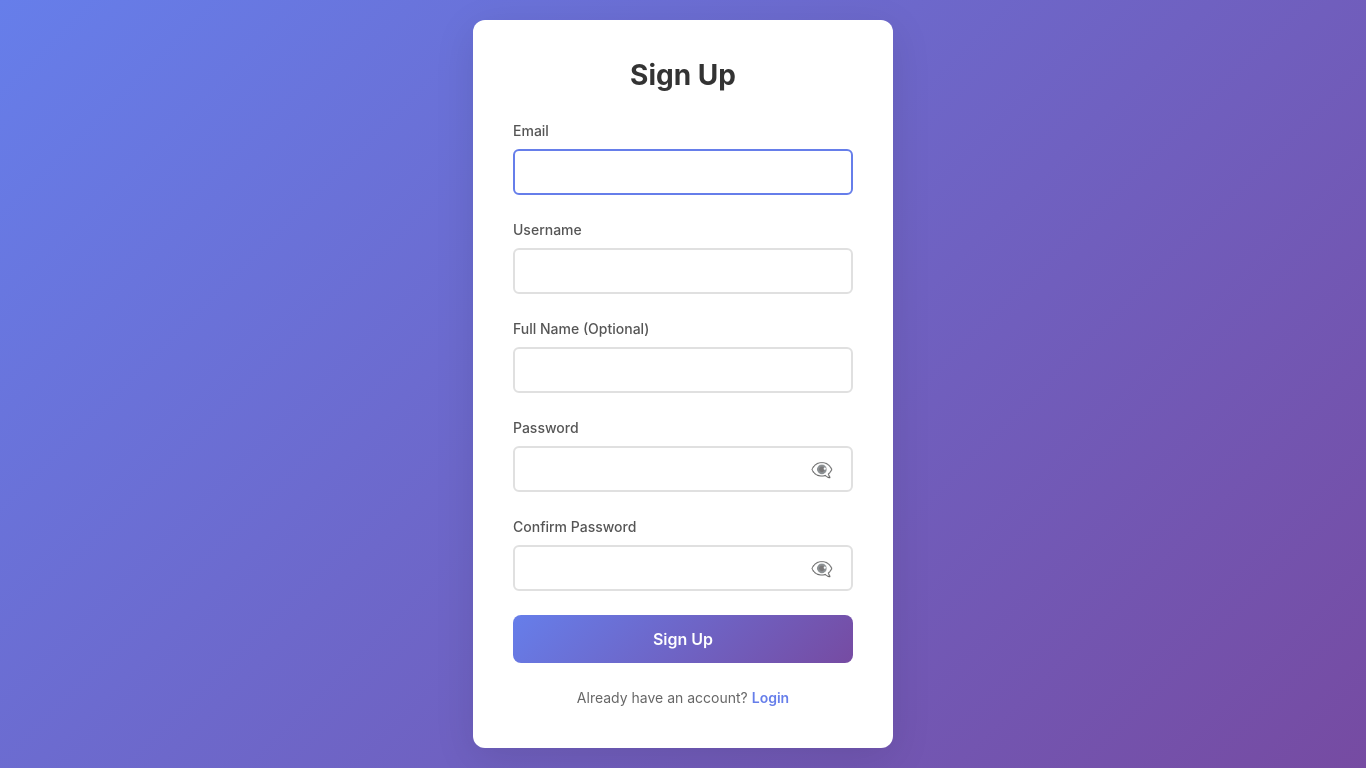
Scenario: Signup Component › Form Submission › shows loading state during signup
Type "test@example.com" into the field labelled "Email" at [683, 172], box [513,149,853,195]
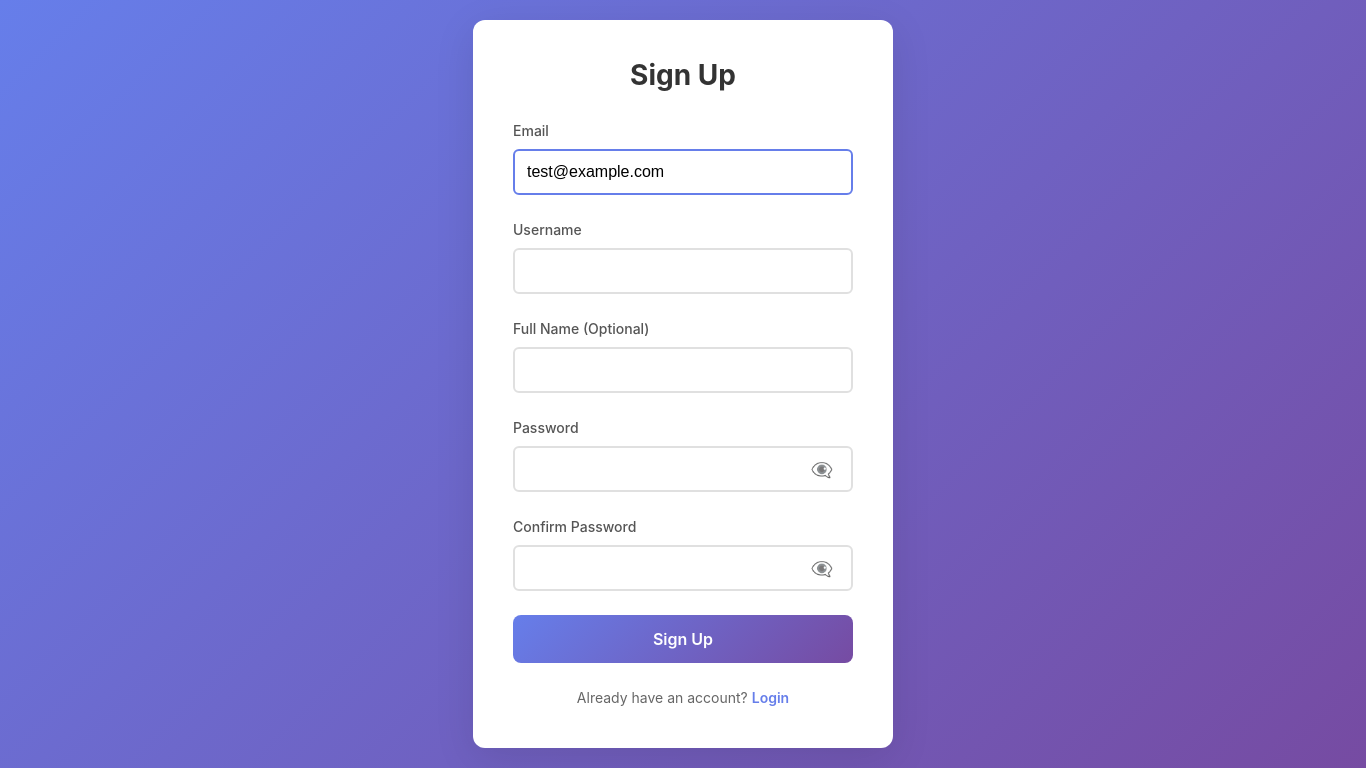
Type "testuser" into the field labelled "Username" at [683, 271], box [513,248,853,294]
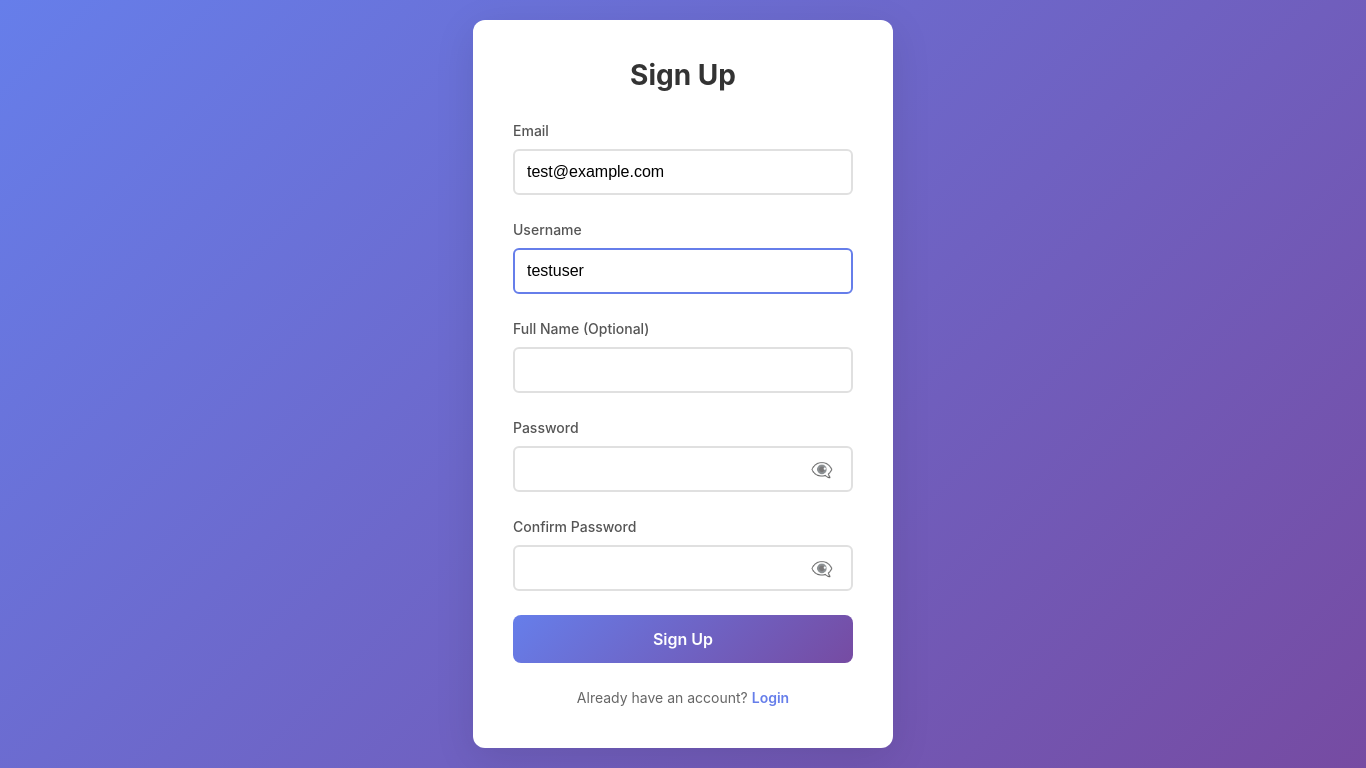
Type "password123" into the password field labelled "Password" at [683, 469], box [513,446,853,492]
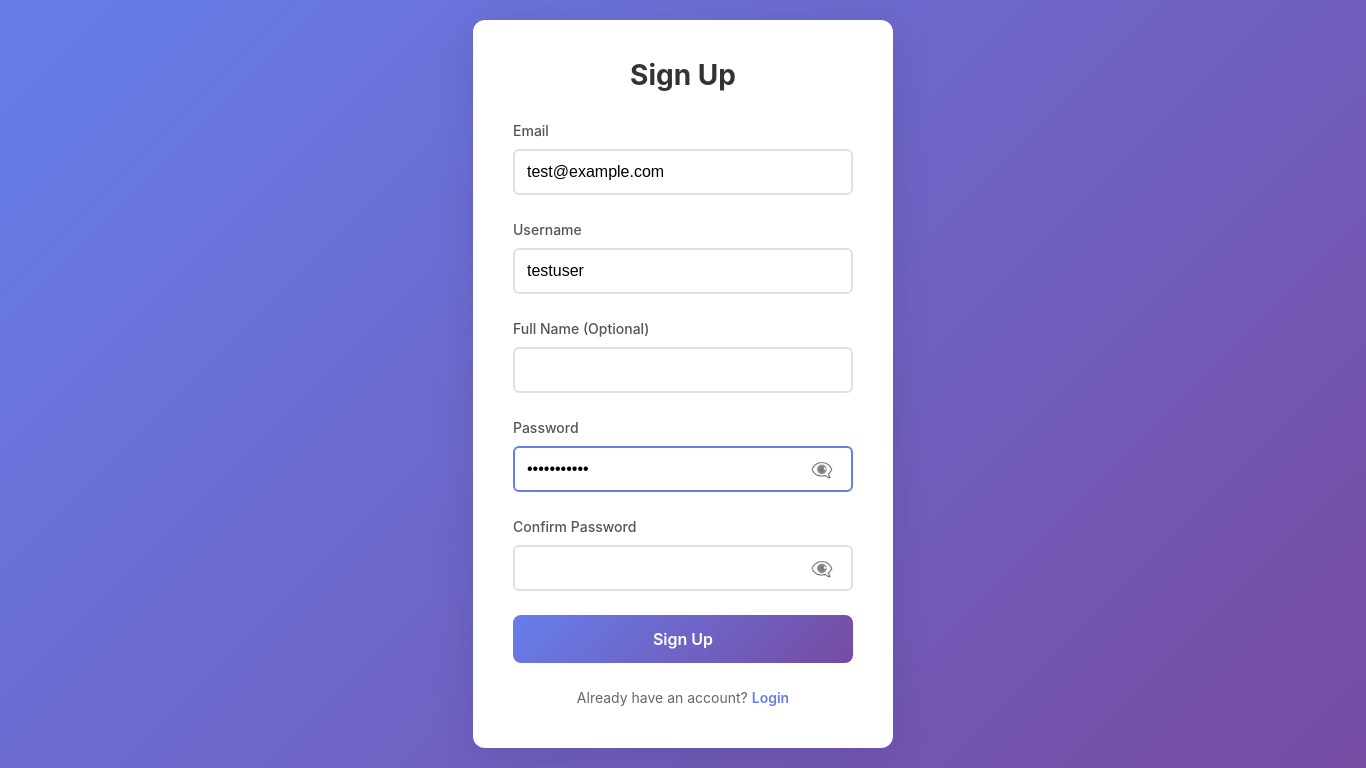
Type "password123" into the password field labelled "Confirm Password" at [683, 568], box [513,545,853,591]
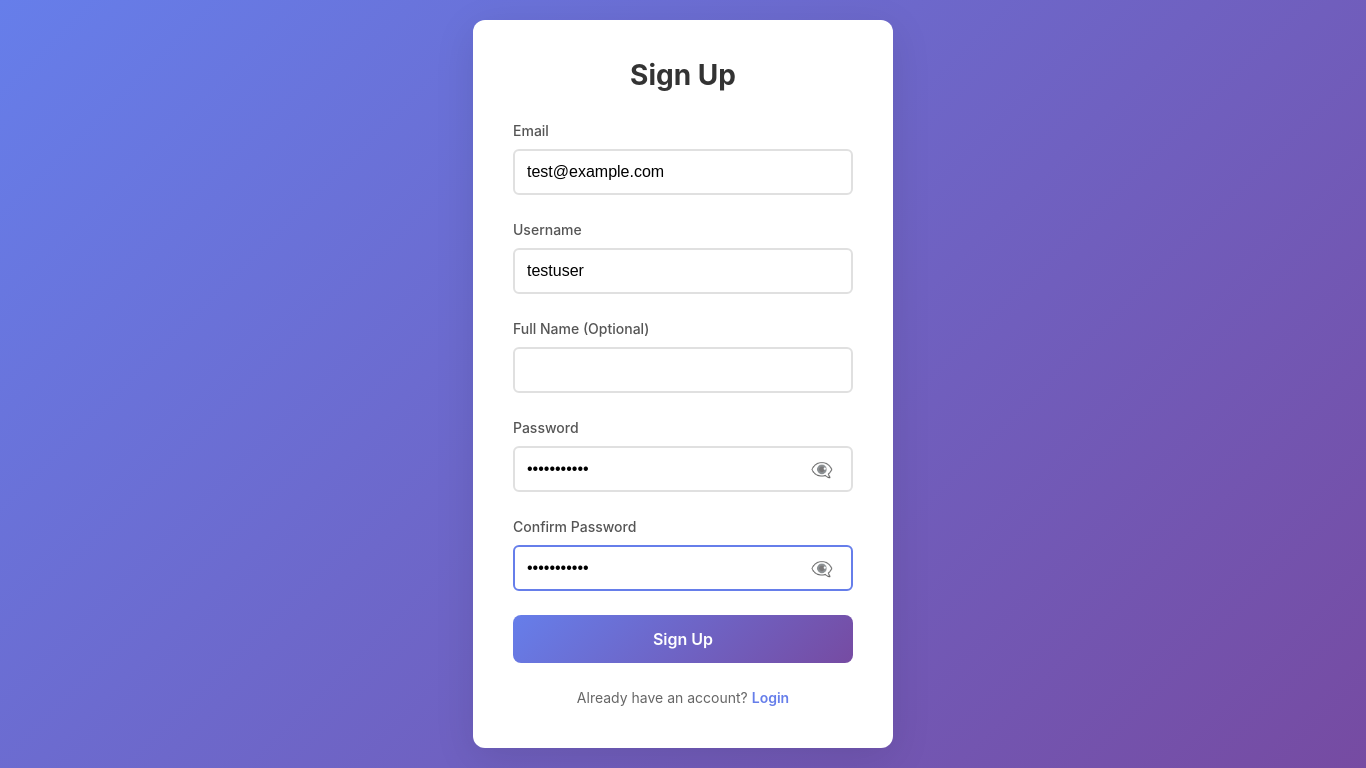
Click the button "Sign Up" at [683, 639], box [513,615,853,663]
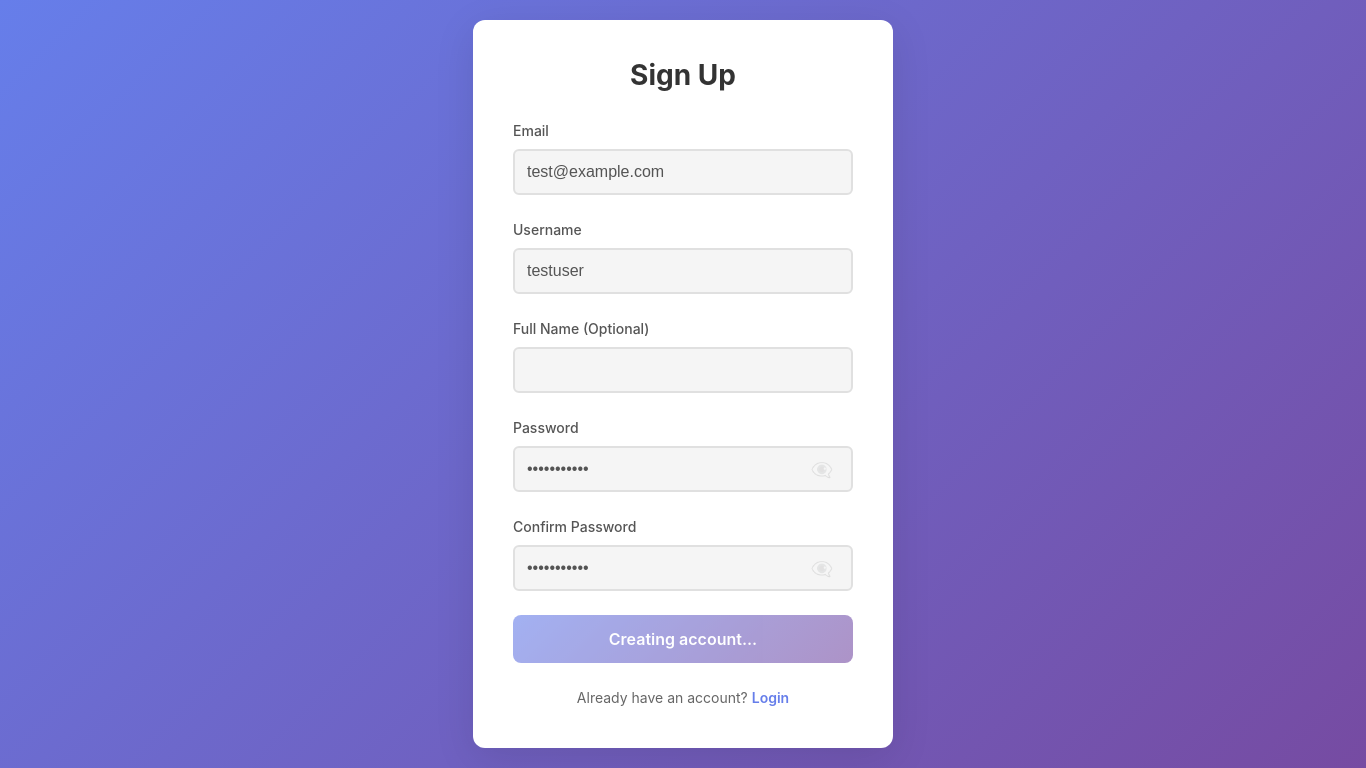
Expected: the button "Creating account..." is disabled, [513,615,853,663]
